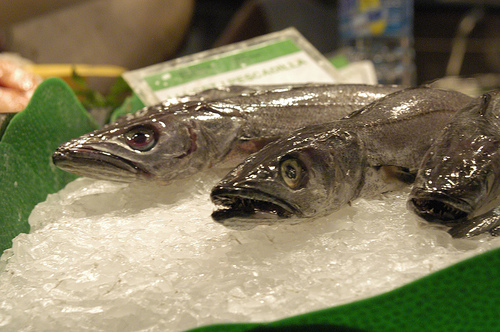fish: (52, 83, 417, 196), (211, 86, 470, 230), (406, 85, 499, 239)
